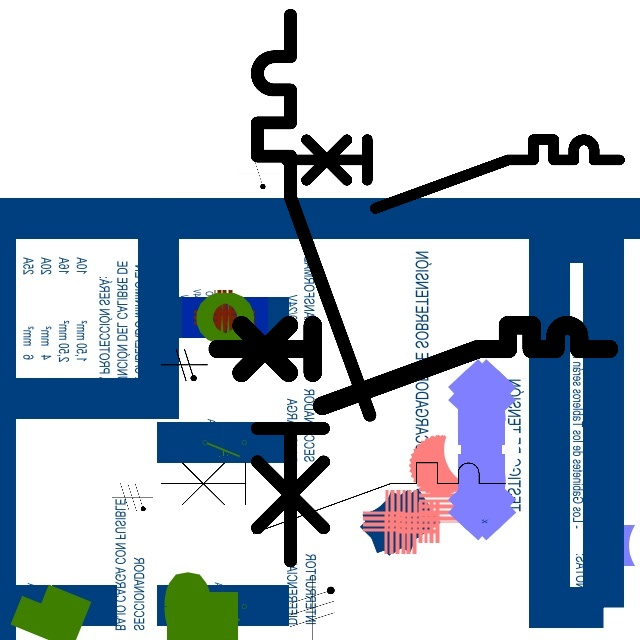interruptor_termomagnetico: (243, 1, 383, 575), (207, 315, 619, 415), (152, 454, 513, 542), (277, 131, 628, 217)
